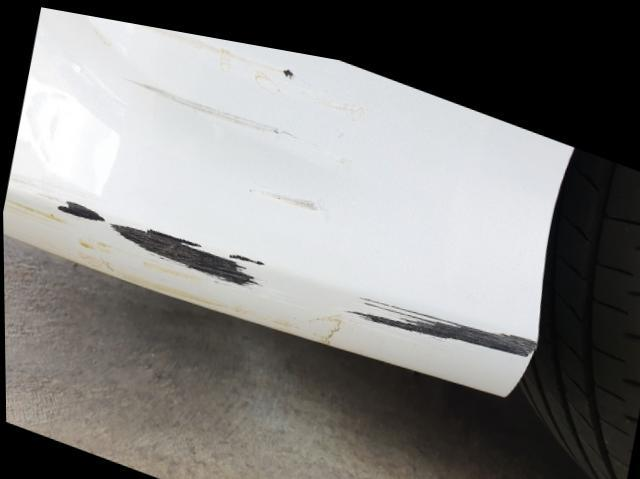scratch: (4, 177, 536, 339)
